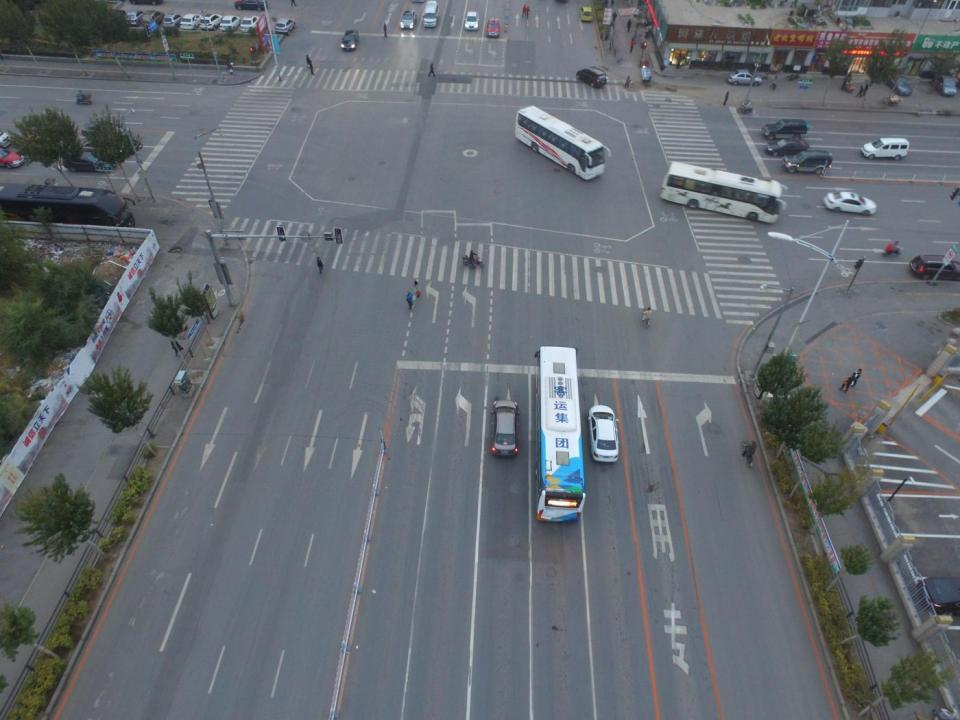bus: (657, 158, 788, 226), (535, 347, 585, 525), (515, 103, 612, 182)
car: (585, 405, 620, 464), (490, 401, 520, 460), (908, 251, 960, 281), (63, 148, 116, 176), (919, 575, 960, 609), (88, 137, 140, 163), (822, 192, 878, 216), (13, 133, 67, 154), (763, 119, 811, 142), (785, 152, 833, 172), (82, 122, 131, 141), (576, 65, 609, 89), (767, 138, 808, 157), (930, 71, 956, 97), (727, 69, 764, 87), (0, 149, 27, 170), (888, 73, 912, 96), (340, 29, 359, 51), (180, 12, 201, 31), (234, 0, 267, 12), (200, 13, 222, 30), (140, 10, 163, 26), (162, 12, 182, 30), (220, 15, 241, 32), (399, 10, 418, 28), (274, 19, 296, 34), (240, 16, 260, 32), (464, 12, 480, 31), (578, 6, 597, 22), (486, 19, 501, 39), (126, 11, 142, 27)
van: (0, 184, 137, 238), (860, 137, 908, 161), (421, 1, 440, 30)
